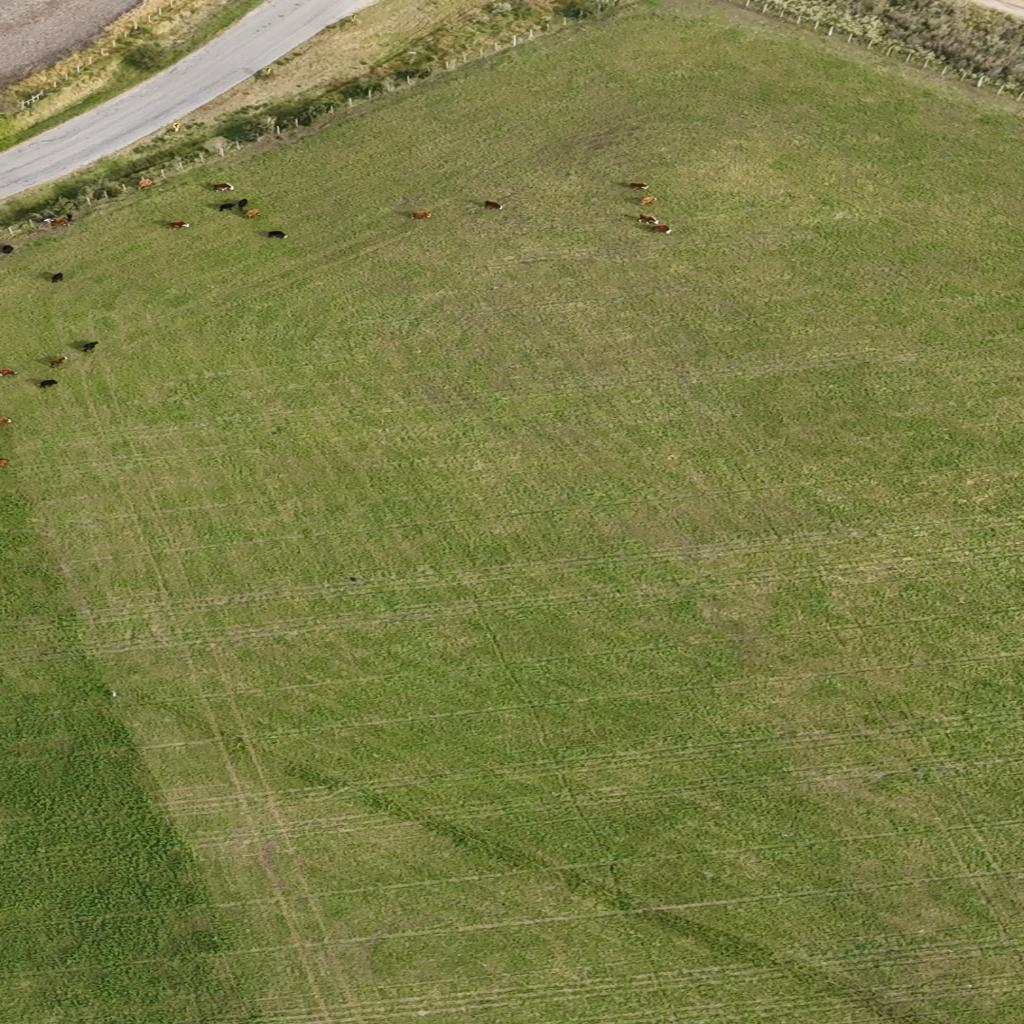cow: (46, 216, 72, 228), (648, 224, 673, 235), (409, 210, 434, 220), (210, 182, 234, 192), (235, 197, 250, 213), (216, 202, 237, 213), (626, 182, 650, 191), (166, 221, 190, 230), (81, 341, 99, 353), (638, 214, 657, 224), (484, 200, 502, 210), (639, 196, 656, 206), (138, 178, 152, 190), (50, 357, 66, 367), (0, 368, 17, 377), (39, 380, 58, 388), (267, 231, 286, 239), (51, 272, 64, 283), (244, 210, 260, 218), (1, 245, 15, 254), (0, 417, 13, 424), (0, 458, 10, 467)
